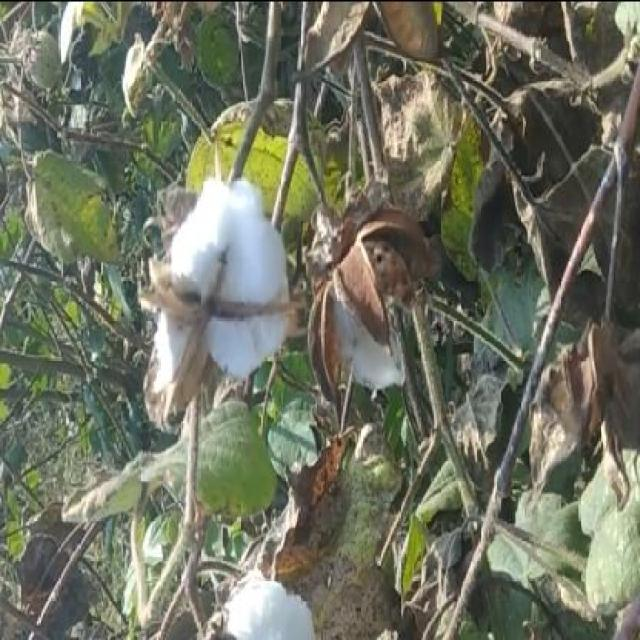cotton_ready: (142, 148, 312, 440)
